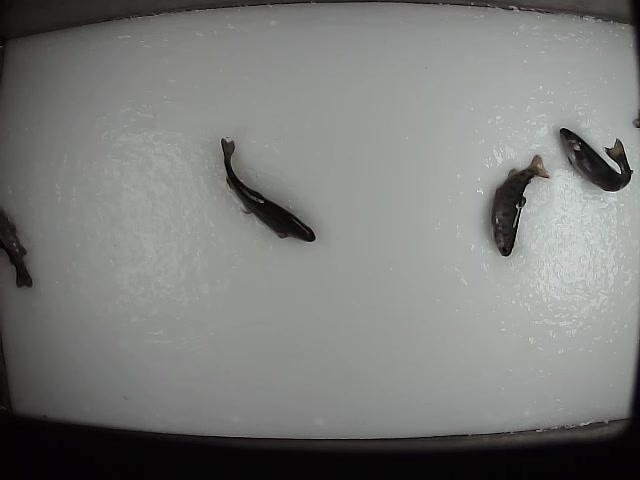fish: (214, 136, 319, 242), (487, 150, 550, 257), (557, 124, 636, 195)
